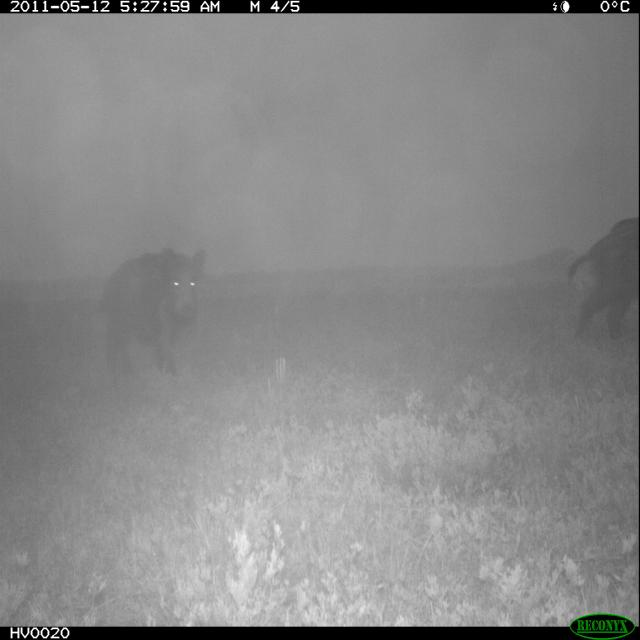boar: (76, 208, 226, 398), (551, 191, 640, 364)
